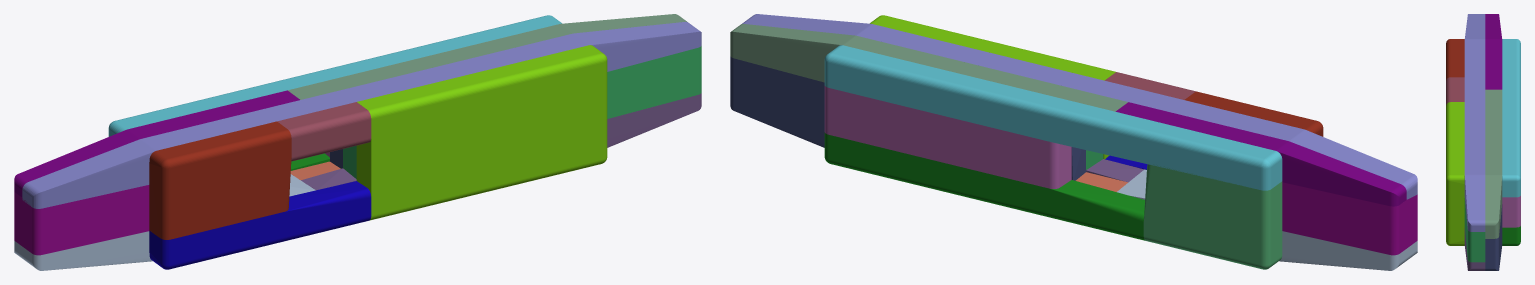
File: 2_canonical.obj
3 renders of one model, left to right at view 1: azimuth 30°, elevation 25°; view 2: azimuth 150°, elevation 25°; view 3: azimuth 270°, elevation 25°, orthographic. The views are drawn at different scales.
Parts seen in each view (by area): view 1: geometry_4, geometry_12, geometry_15, geometry_5, geometry_14, geometry_2, geometry_10, geometry_0, geometry_11, geometry_13, geometry_6, geometry_1 (+1 smaller); view 2: geometry_2, geometry_7, geometry_3, geometry_12, geometry_8, geometry_0, geometry_14, geometry_11, geometry_16, geometry_6, geometry_4, geometry_15 (+3 smaller); view 3: geometry_12, geometry_2, geometry_4, geometry_0, geometry_11, geometry_15, geometry_10, geometry_16, geometry_7, geometry_13, geometry_8, geometry_1.
Boxes of the visible parts, x1=… form: geometry_4: x1=356, y1=45, x2=607, y2=220; geometry_12: x1=22, y1=21, x2=701, y2=208; geometry_15: x1=149, y1=121, x2=291, y2=239; geometry_5: x1=149, y1=181, x2=371, y2=269; geometry_14: x1=14, y1=185, x2=149, y2=255; geometry_2: x1=108, y1=15, x2=561, y2=136; geometry_10: x1=343, y1=46, x2=701, y2=178; geometry_0: x1=288, y1=14, x2=686, y2=99; geometry_11: x1=14, y1=90, x2=299, y2=197; geometry_13: x1=277, y1=102, x2=371, y2=161; geometry_6: x1=14, y1=174, x2=315, y2=270; geometry_1: x1=301, y1=93, x2=701, y2=190; geometry_2: x1=824, y1=45, x2=1282, y2=190; geometry_7: x1=824, y1=86, x2=1071, y2=188; geometry_3: x1=1143, y1=164, x2=1282, y2=269; geometry_12: x1=742, y1=14, x2=1417, y2=199; geometry_8: x1=824, y1=132, x2=1144, y2=240; geometry_0: x1=730, y1=24, x2=1127, y2=111; geometry_14: x1=1282, y1=182, x2=1417, y2=255; geometry_11: x1=1115, y1=102, x2=1406, y2=206; geometry_16: x1=730, y1=56, x2=1086, y2=180; geometry_6: x1=1117, y1=169, x2=1417, y2=270; geometry_4: x1=870, y1=15, x2=1115, y2=159; geometry_15: x1=1185, y1=91, x2=1323, y2=136; geometry_12: x1=1464, y1=14, x2=1485, y2=231; geometry_2: x1=1502, y1=39, x2=1520, y2=197; geometry_4: x1=1446, y1=102, x2=1464, y2=245; geometry_0: x1=1485, y1=89, x2=1502, y2=238; geometry_11: x1=1485, y1=14, x2=1502, y2=89; geometry_15: x1=1446, y1=39, x2=1464, y2=80; geometry_10: x1=1464, y1=197, x2=1485, y2=262; geometry_16: x1=1485, y1=204, x2=1502, y2=270; geometry_7: x1=1502, y1=196, x2=1520, y2=227; geometry_13: x1=1446, y1=77, x2=1464, y2=105; geometry_8: x1=1502, y1=226, x2=1520, y2=245; geometry_1: x1=1464, y1=228, x2=1485, y2=270.
Size of the model in its own units: 0.0762 by 0.012 by 0.0115.
